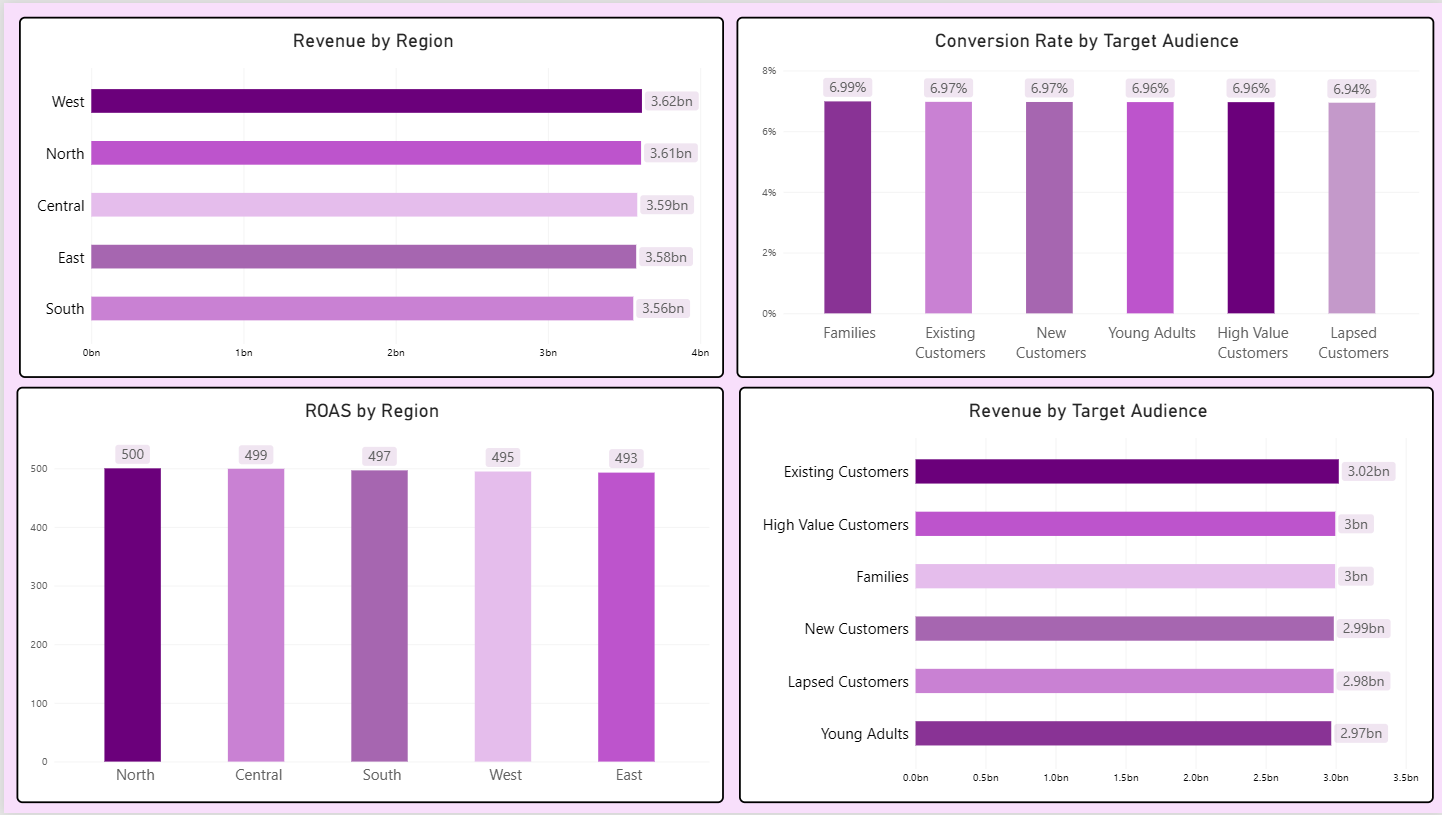

The page's visual inventory and layout, read from the dashboard file:
{"tool":"powerbi","page":{"name":"Regional & Audience Analysis","canvas":[1920,1080],"ordinal":3},"visuals":[{"type":"clusteredBarChart","title":"Revenue by Region","fields":{"Category":["public marketing_cleaned.region"],"Y":["Sum(public marketing_cleaned.revenue)"]},"box":[20,18.3,940,481.7],"z":0},{"type":"clusteredColumnChart","title":"ROAS by Region","fields":{"Category":["public marketing_cleaned.region"],"Y":["public marketing_cleaned.ROAS"]},"box":[16.7,511.7,943.3,555],"z":1000},{"type":"clusteredBarChart","title":"Revenue by Target Audience","fields":{"Category":["public marketing_cleaned.target_audience"],"Y":["Sum(public marketing_cleaned.revenue)"]},"box":[980,511.7,926.7,555],"z":2000},{"type":"clusteredColumnChart","title":"Conversion Rate by Target Audience","fields":{"Category":["public marketing_cleaned.target_audience"],"Y":["public marketing_cleaned.Conversion Rate"]},"box":[976.7,18.3,930,481.7],"z":3000}]}

Visuals, with their boxes in screenshot pixels (x1, y1, x2, y2), scaled from the page's 1920x1080 canvas onto the 1442x815 screenshot:
"Revenue by Region" clusteredBarChart: region(15, 14, 721, 377)
"ROAS by Region" clusteredColumnChart: region(13, 386, 721, 805)
"Revenue by Target Audience" clusteredBarChart: region(736, 386, 1432, 805)
"Conversion Rate by Target Audience" clusteredColumnChart: region(734, 14, 1432, 377)
